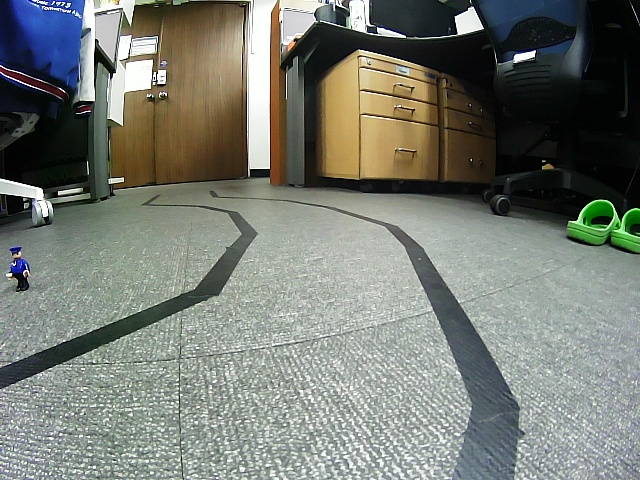person: (4, 245, 34, 292)
